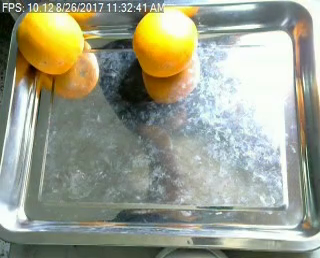Orange: (16, 6, 83, 75), (132, 8, 198, 78)
